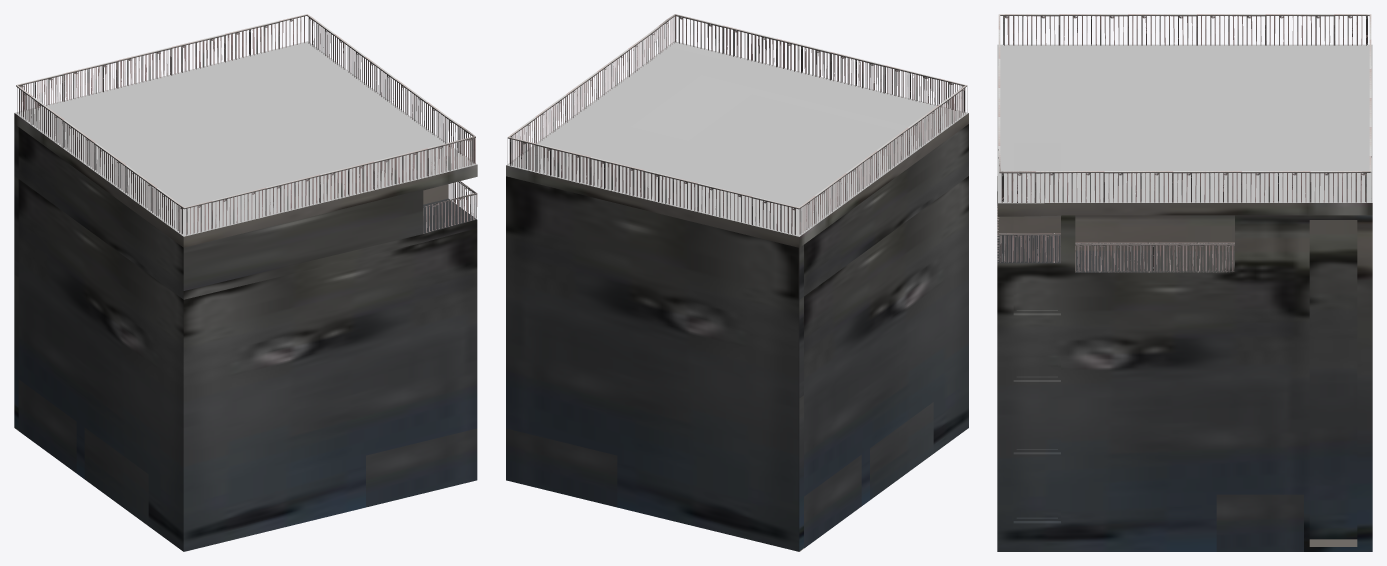
The model's file is yk_aita_sininen_hervanta_talo_2.fbx.
The picture shows the model from 3 angles, left to right: view 1: azimuth 30°, elevation 25°; view 2: azimuth 150°, elevation 25°; view 3: azimuth 270°, elevation 25°; orthographic projection. The views are drawn at different scales.
Visible parts, largest first — view 1: Cube.003; view 2: Cube.003; view 3: Cube.003.
Boxes of the visible parts, x1,y1,x2,y2 form: Cube.003: [14, 14, 477, 551]; Cube.003: [506, 14, 968, 551]; Cube.003: [997, 14, 1372, 551].
Bounding box in the file's own units: 1211 × 1351 × 1208.
